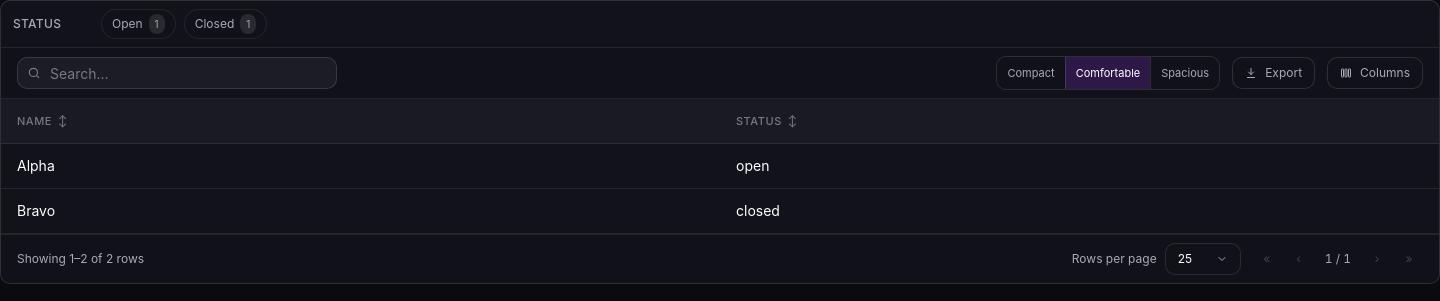
DataWorkspace › renders workspace facets and filters client-side rows
Expected: the element named "Workspace filters" is shown, [1,1,1439,48]
Expected: the text "Alpha" is shown, [17,156,55,176]
Click the button named "Open1": (138, 24) [101,9,176,39]
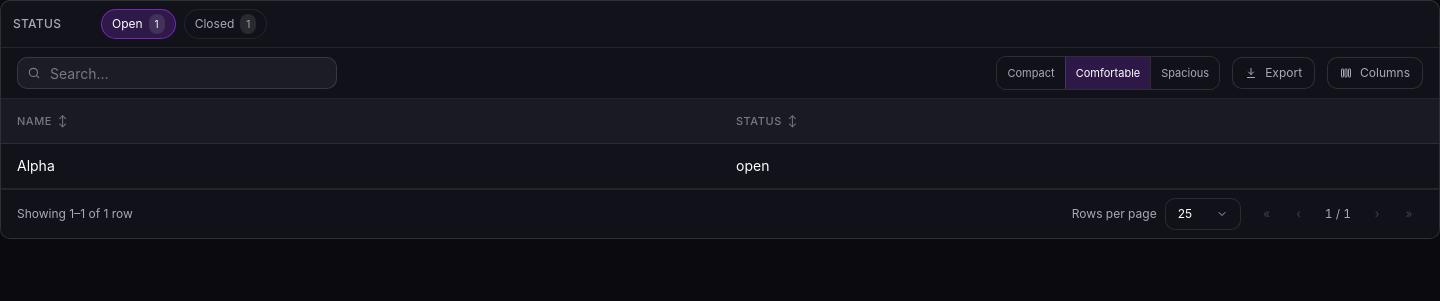
Expected: the text "Alpha" is shown, [17,156,55,176]
Now the text "Bravo" is gone
Click the button named "Open1": (138, 24) [101,9,176,39]
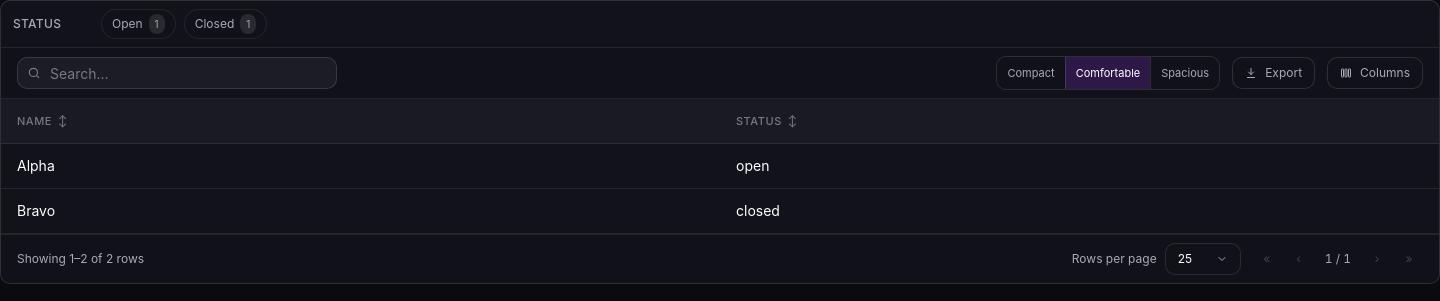
Now the text "Bravo" is shown, box [17,201,55,221]
